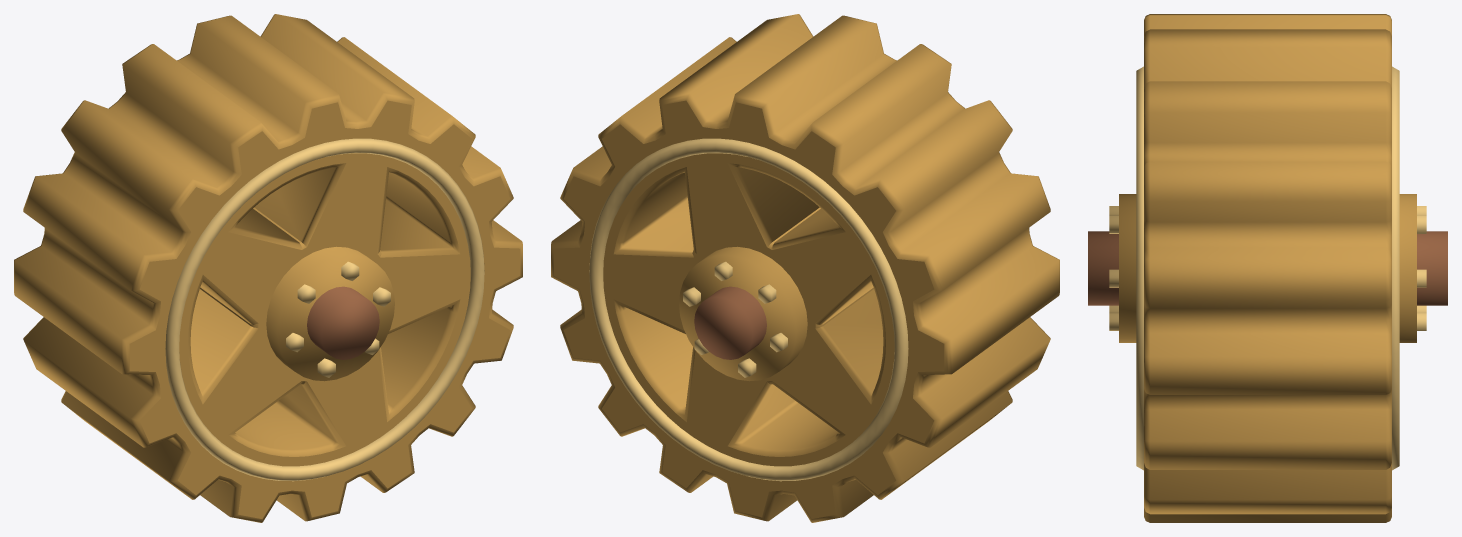
Rendered from gear-16.glb.
3 renders of one model, left to right at view 1: azimuth 30°, elevation 25°; view 2: azimuth 150°, elevation 25°; view 3: azimuth 270°, elevation 25°, orthographic. The views are drawn at different scales.
Visible parts, largest first — view 1: gear; view 2: gear; view 3: gear.
Boxes of the visible parts, bbox=[...] form: gear: bbox=[14, 14, 522, 522]; gear: bbox=[551, 14, 1059, 522]; gear: bbox=[1088, 14, 1447, 522].
Bounding box in the file's own units: 2.05 × 2.05 × 1.45.
